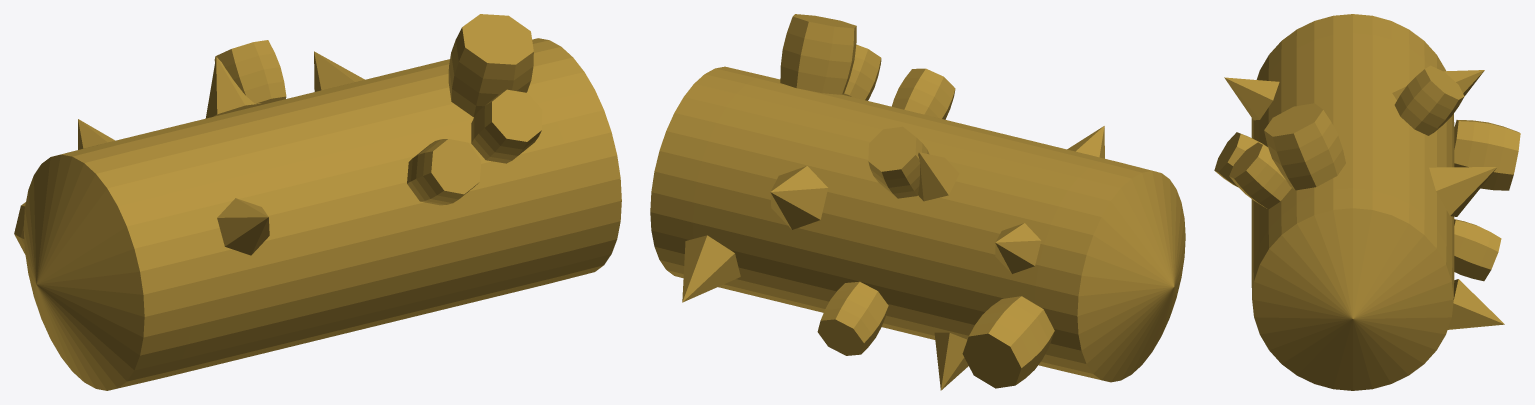
File: exp1_ovoid_cylinder_asym_03.glb
The picture shows the model from 3 angles, left to right: view 1: azimuth 30°, elevation 25°; view 2: azimuth 150°, elevation 25°; view 3: azimuth 270°, elevation 25°; orthographic projection. The views are drawn at different scales.
Visible parts, largest first — view 1: exp1_ovoid_cylinder_asym_03; view 2: exp1_ovoid_cylinder_asym_03; view 3: exp1_ovoid_cylinder_asym_03.
Part boxes in pixels (x1=…): exp1_ovoid_cylinder_asym_03: x1=14, y1=14, x2=621, y2=390; exp1_ovoid_cylinder_asym_03: x1=650, y1=14, x2=1185, y2=390; exp1_ovoid_cylinder_asym_03: x1=1214, y1=14, x2=1520, y2=390.
Bounding box in the file's own units: 3.54 × 1.76 × 1.97.
